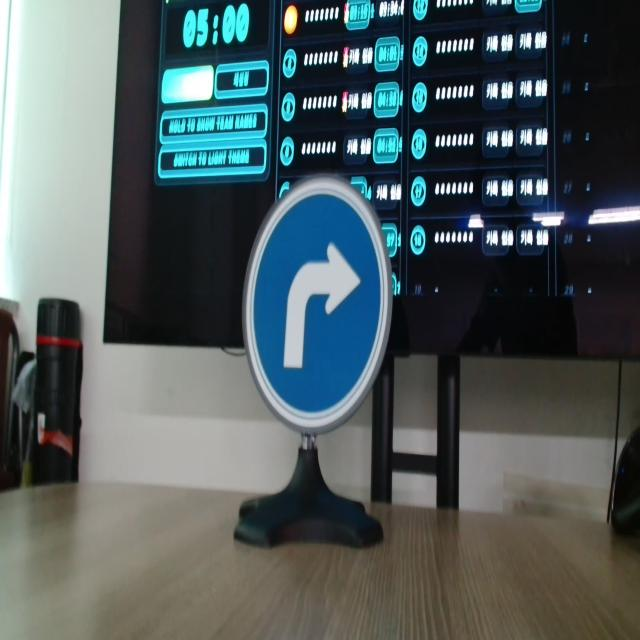right_dierection: (235, 164, 393, 440)
